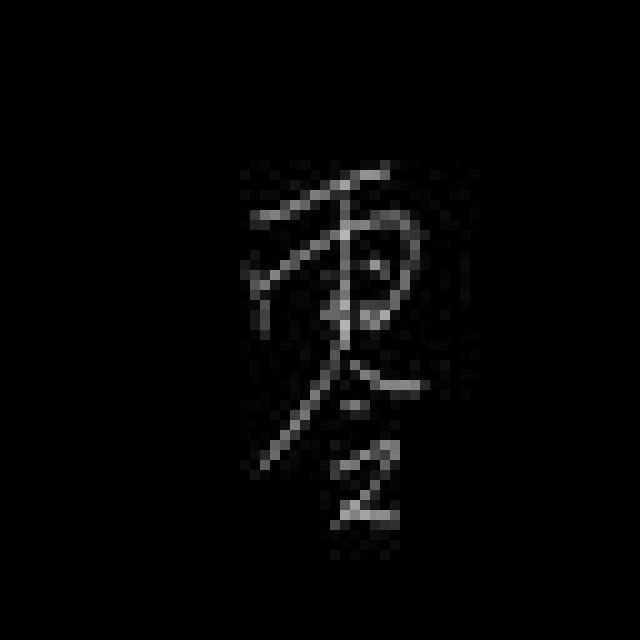0 -zero-: (230, 157, 433, 539)
